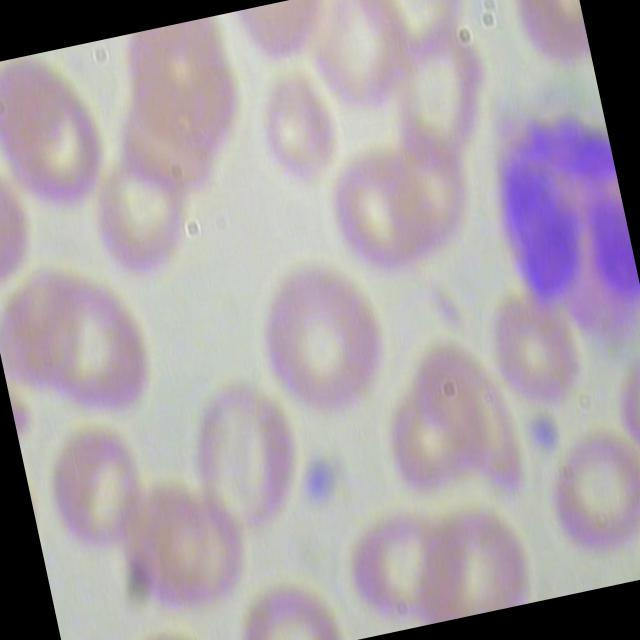Platelets: (290, 451, 348, 513), (520, 408, 566, 456)
